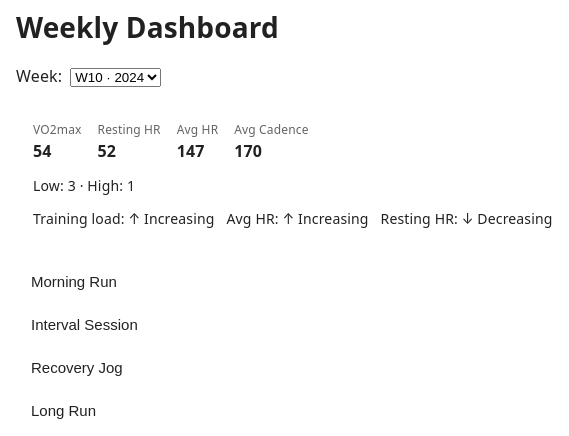
it: WeeklyDashboard › Scenario: No comparison available for earliest week › W08 shows em dash for all trends
The width and height of the screenshot is (569, 436).
Select "W08 · 2024" in the dropdown with test id "week-selector" at (116, 78), box [70,68,161,87]
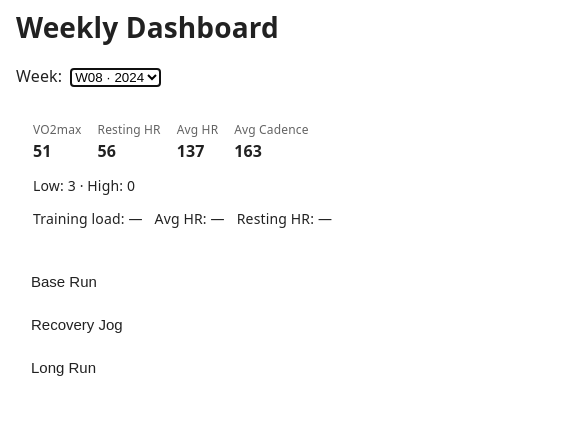
Now the text with test id "trend-training-load" reads "—", box [128,209,143,228]
Now the text with test id "trend-avg-hr" reads "—", box [211,209,225,228]
Now the text with test id "trend-resting-hr" reads "—", box [318,209,332,228]
